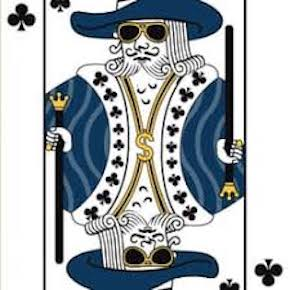KingOfClubs: (5, 1, 285, 290)
